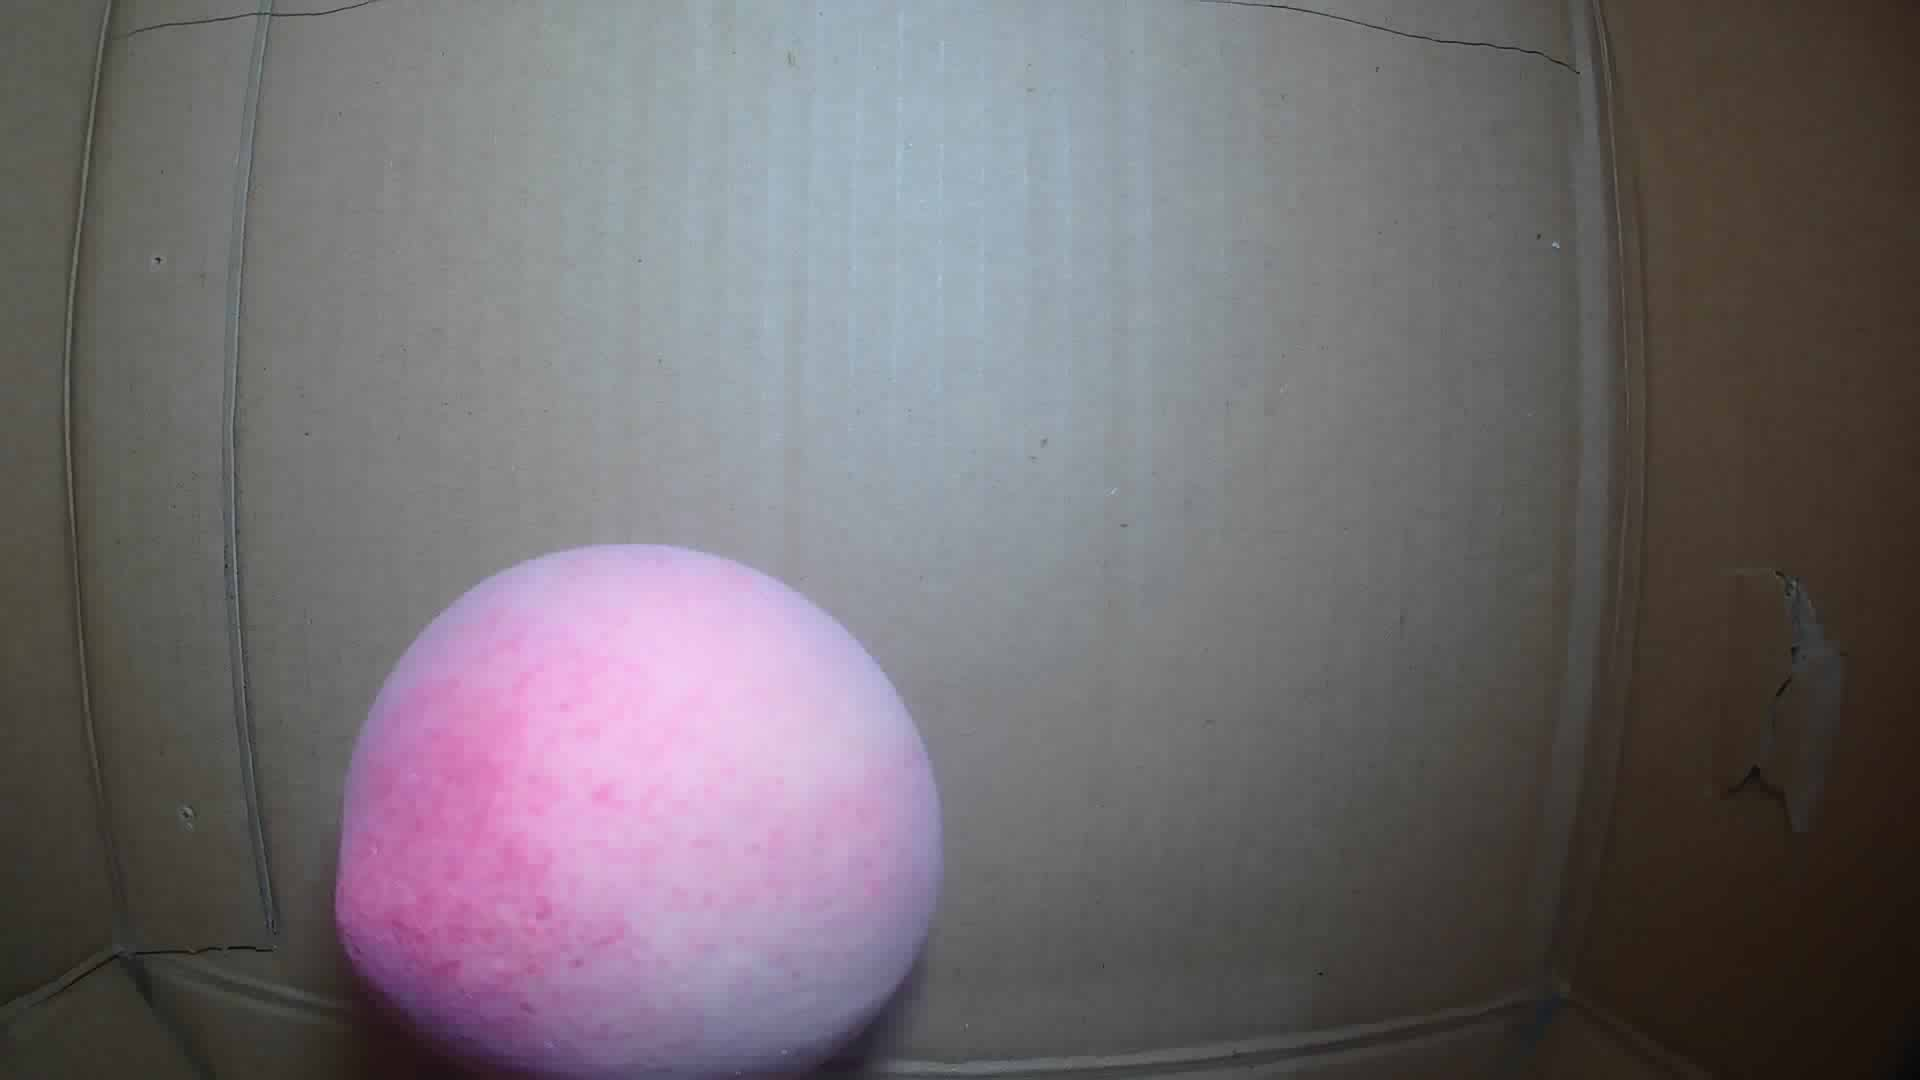peach: (334, 541, 942, 1080)
